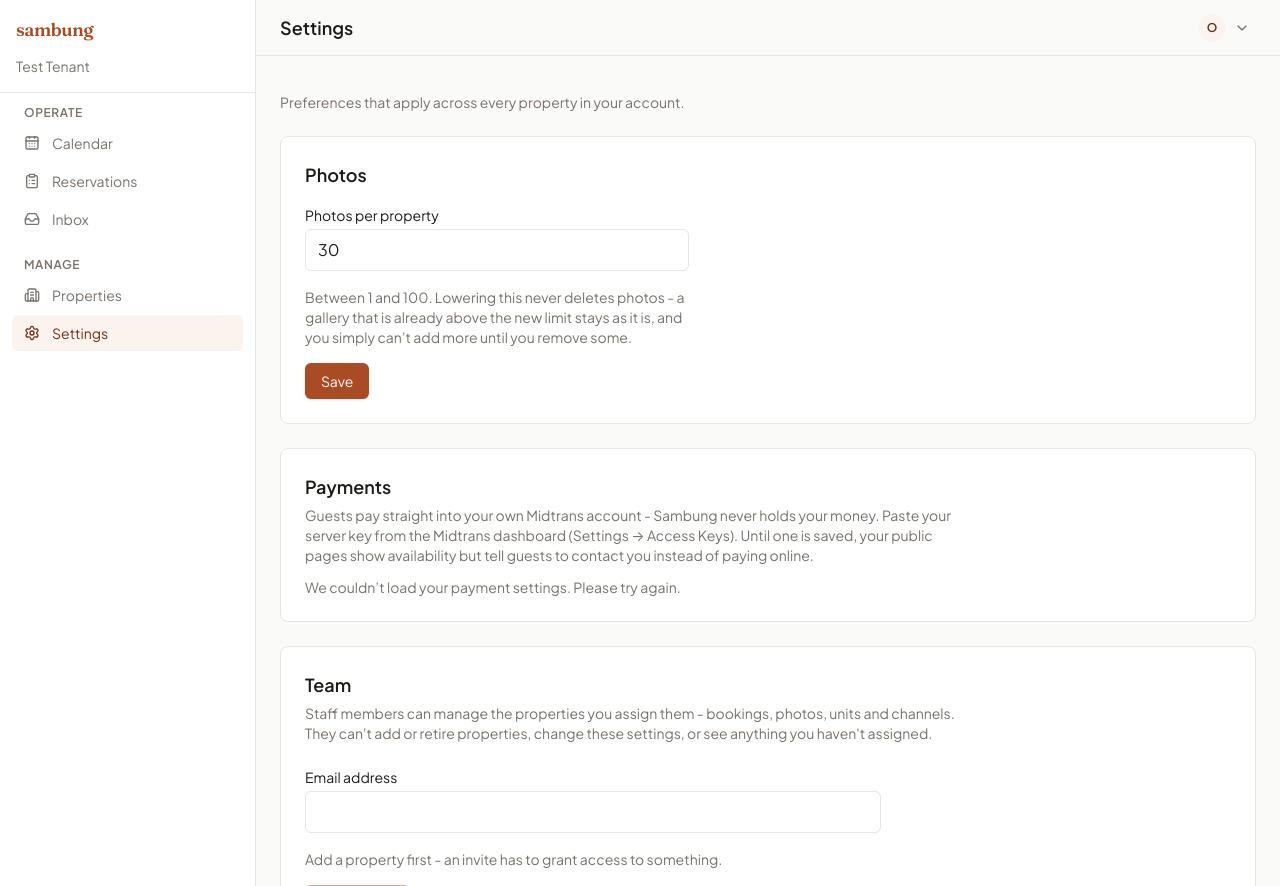
it: settings page (§4.7, #67) › PATCHes the new cap and paints the server's answer
Step 1. Replace the text in the number field labelled "Photos per property" with "60" → (497, 250), box [305,229,689,271]
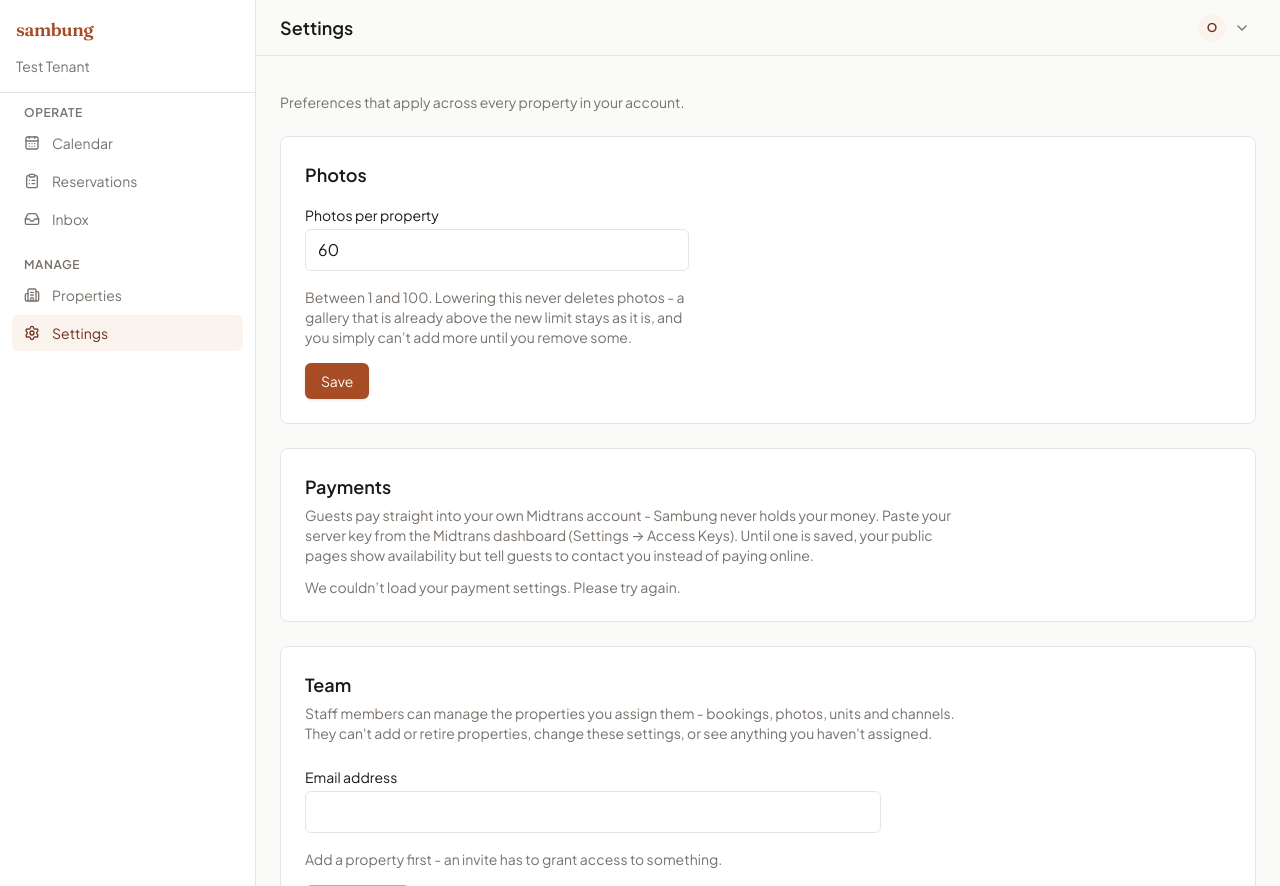
Step 2. Click the button "Save" → (337, 381), box [305,363,369,399]
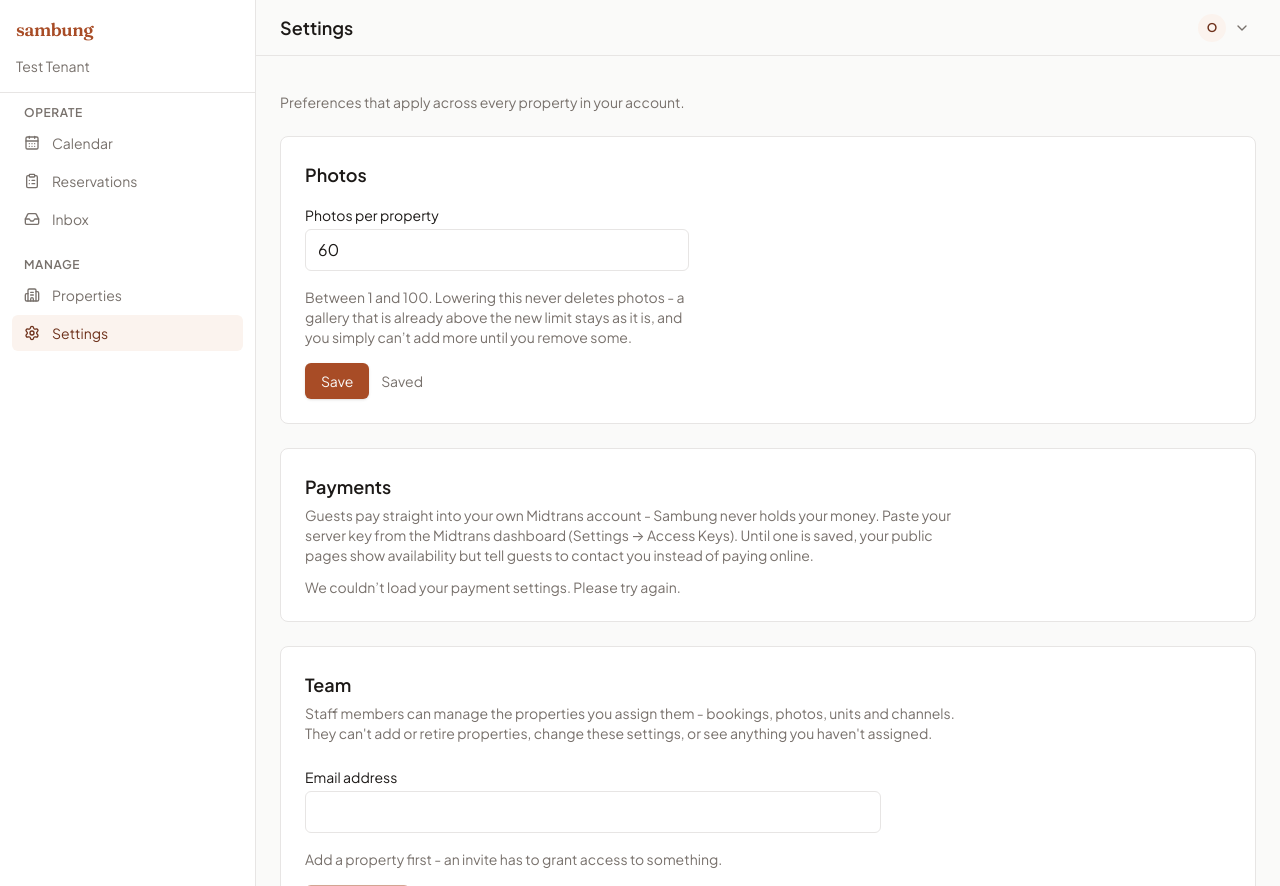
expect the text "Saved" is shown: met, box [381,371,423,391]
